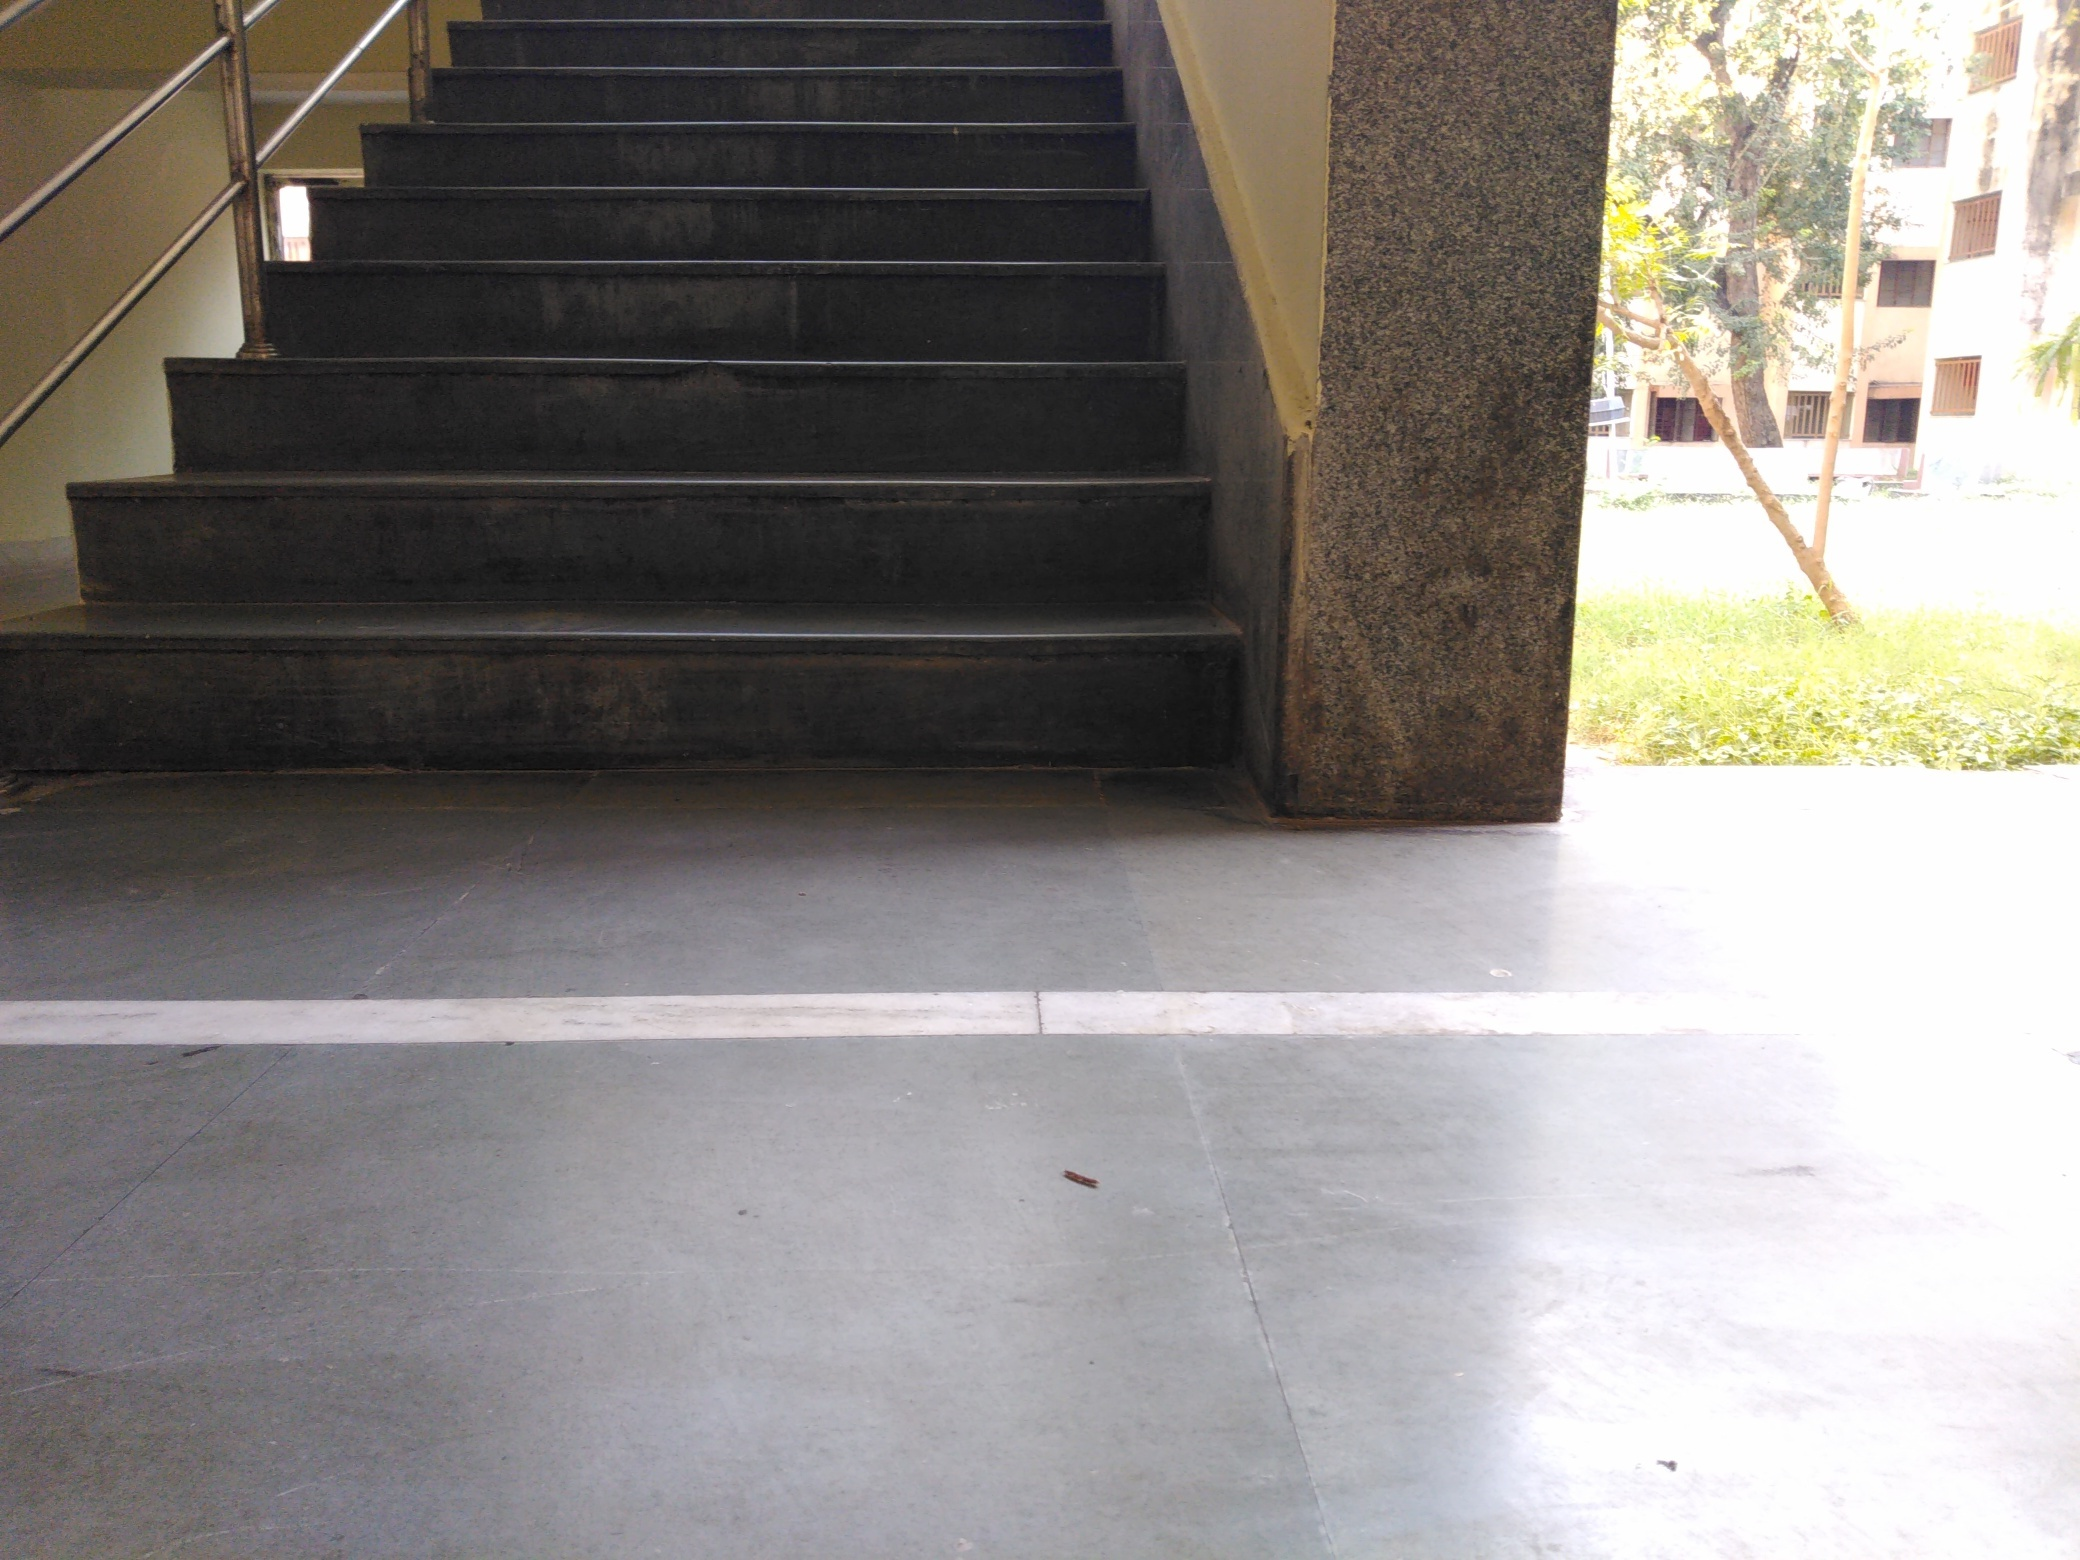stairs_up: (66, 20, 1253, 777)
